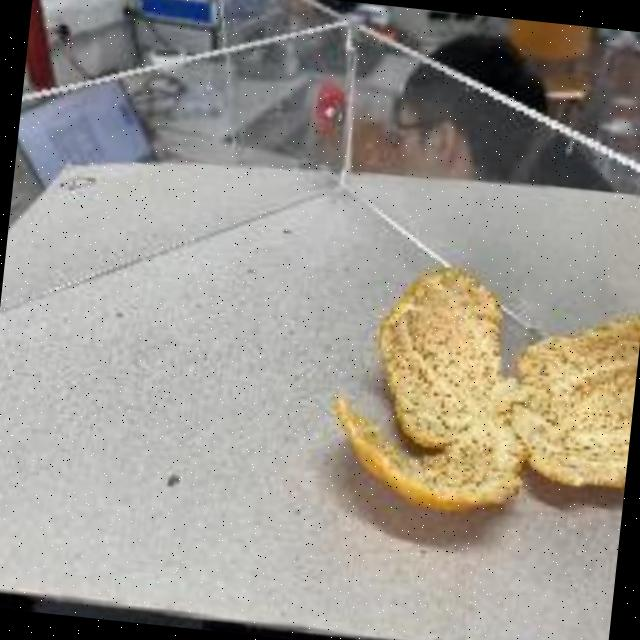orange-peel: (317, 247, 640, 535)
